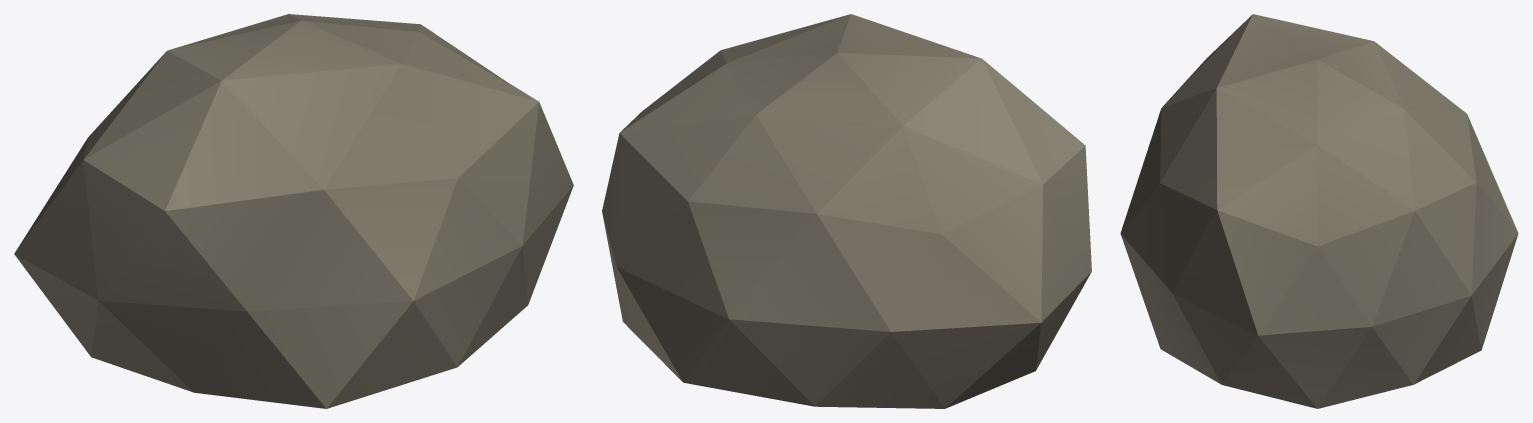
File: rock-b.glb
3 renders of one model, left to right at view 1: azimuth 30°, elevation 25°; view 2: azimuth 150°, elevation 25°; view 3: azimuth 270°, elevation 25°, orthographic. The views are drawn at different scales.
Parts seen in each view (by area): view 1: rock-b; view 2: rock-b; view 3: rock-b.
Boxes of the visible parts, x1,y1,x2,y2 form: rock-b: [14, 14, 573, 408]; rock-b: [602, 14, 1091, 408]; rock-b: [1120, 14, 1518, 408].
Bounding box in the file's own units: 0.8518 × 0.494 × 0.6827.
